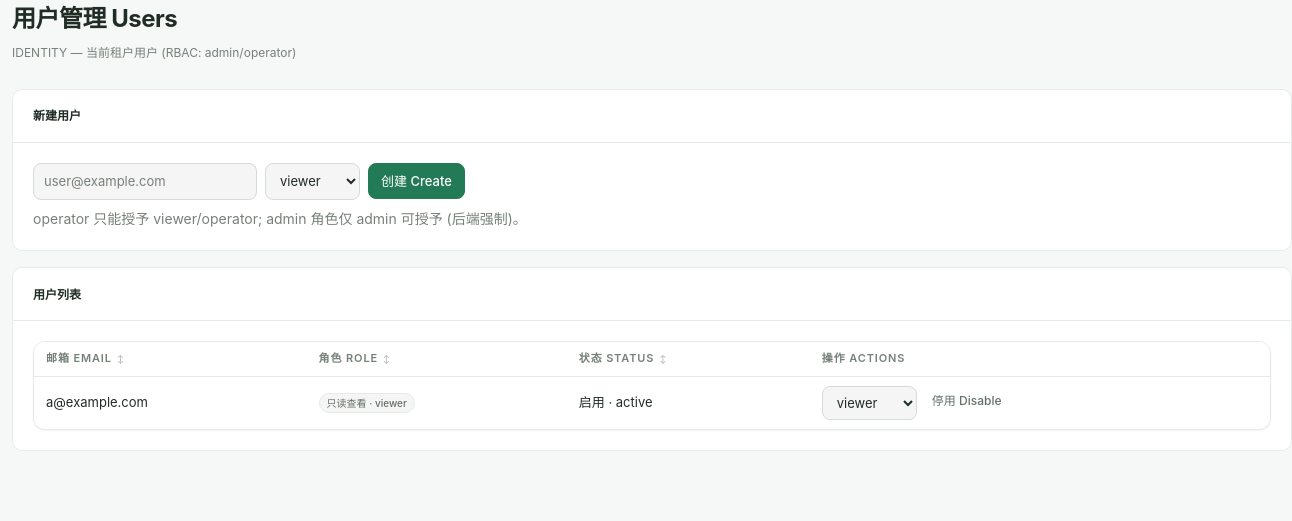
Scenario: TenantUsers › lists users and creates a new one
Expected: the text "a@example.com" is shown, left=34, top=377, right=307, bottom=429
Type "b@example.com" into the field with placeholder "user@example.com".
click(145, 181); type("b@example.com")  # box left=33, top=163, right=257, bottom=200
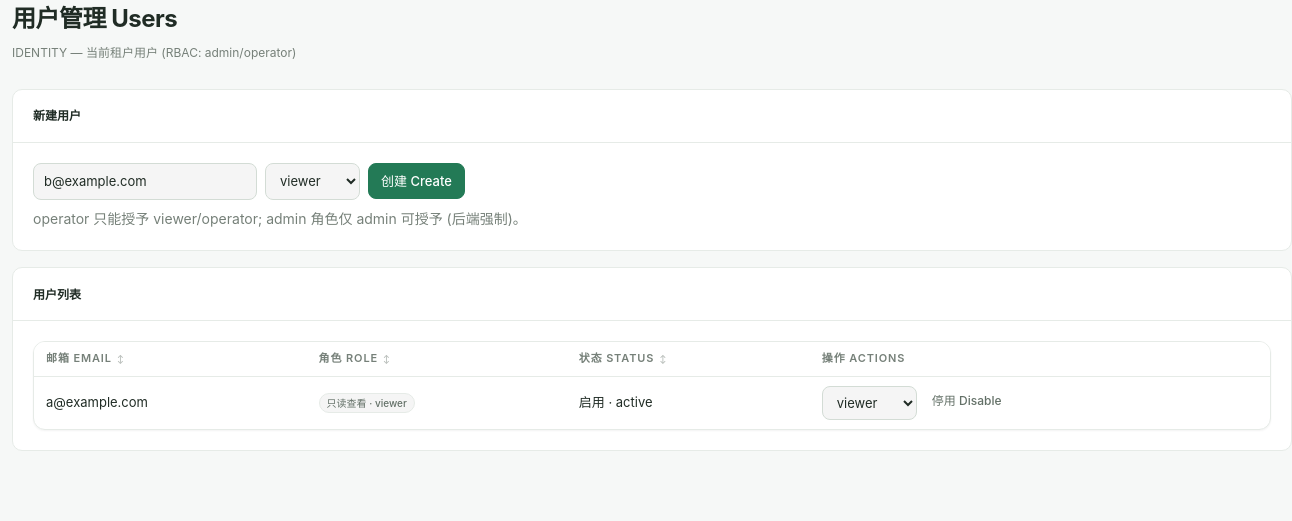
Click the button "创建 Create".
click(416, 181)  # box left=368, top=163, right=465, bottom=199
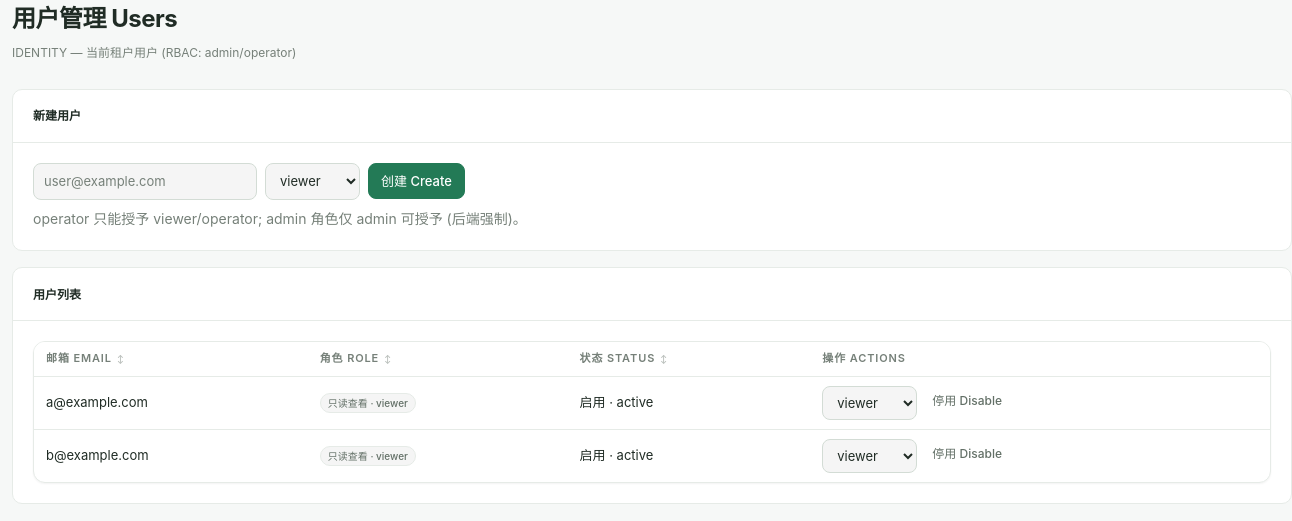
Expected: the text "b@example.com" is shown, left=34, top=430, right=308, bottom=482
